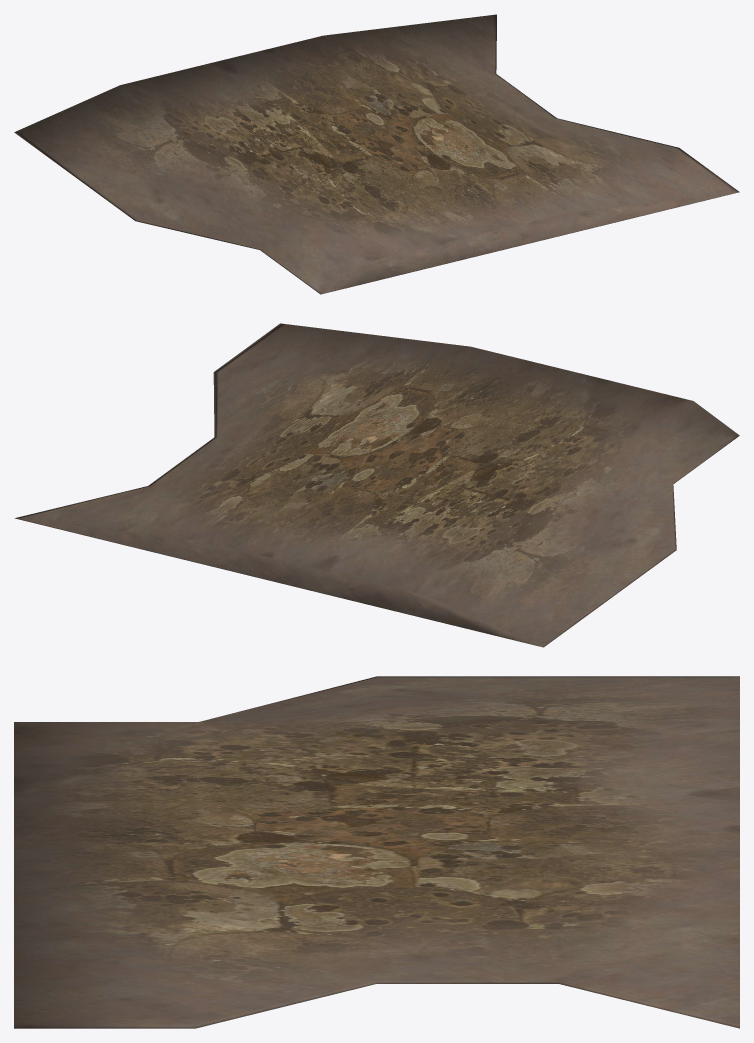
The model's file is DirtMoundfour.fbx.
3 views of the same model, one above another, from view 1: azimuth 30°, elevation 25°; view 2: azimuth 150°, elevation 25°; view 3: azimuth 270°, elevation 25° (orthographic). The views are drawn at different scales.
Visible parts, largest first — view 1: Moundfour; view 2: Moundfour; view 3: Moundfour.
Boxes of the visible parts, x1,y1,x2,y2 form: Moundfour: (14,14,739,294); Moundfour: (14,323,739,647); Moundfour: (14,676,739,1028).
Size of the model in its own units: 230 by 9.66 by 200.
1 material, 1 textured.
